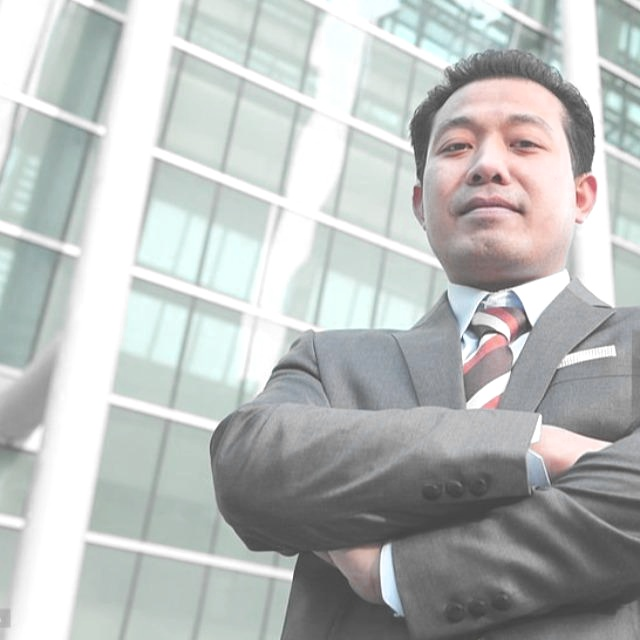Sin_Casco_Mascarrilla: (409, 50, 595, 282)
Sin_Chaleco: (273, 281, 639, 640)
